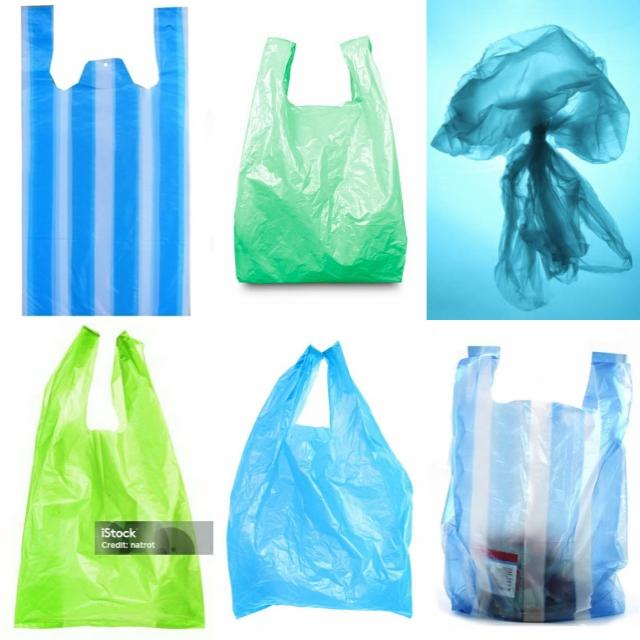Single-layer Plastic: (431, 25, 632, 310), (15, 327, 204, 628), (21, 6, 189, 315), (442, 347, 631, 621), (228, 344, 411, 617), (236, 36, 406, 283)
